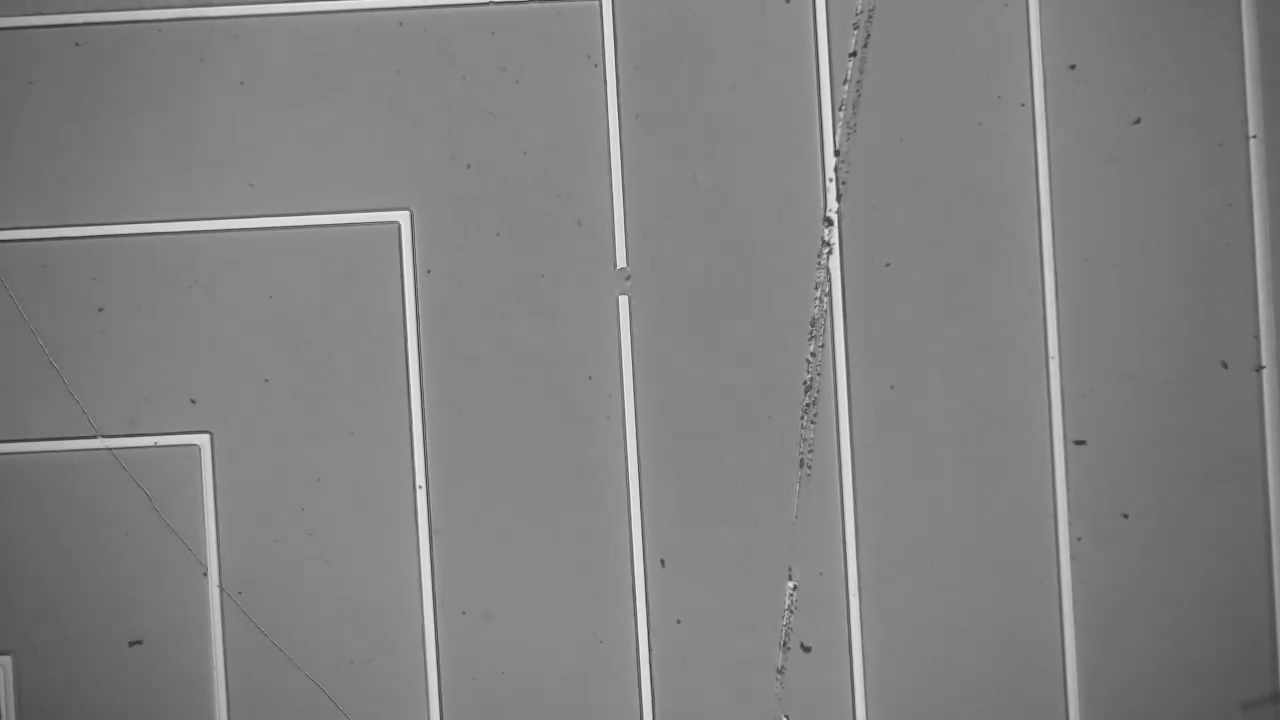open: (590, 250, 647, 326)
scratch: (5, 287, 340, 708), (758, 13, 873, 713)
